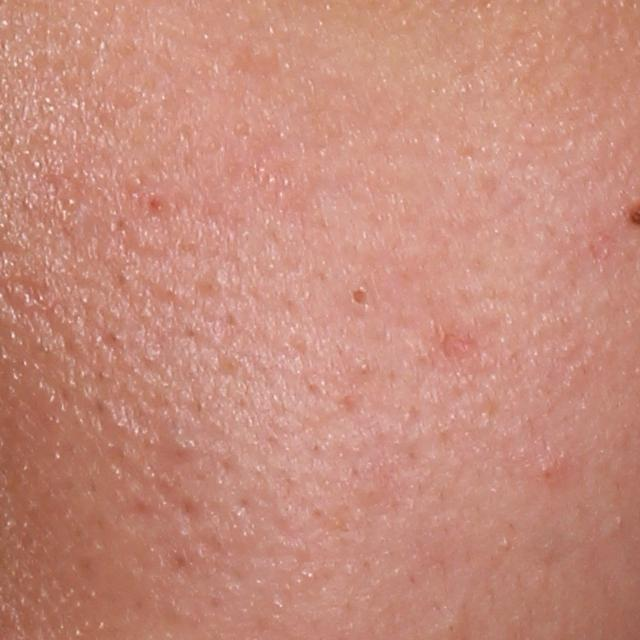comedo: (346, 281, 372, 311), (535, 459, 564, 485), (437, 614, 463, 640)
